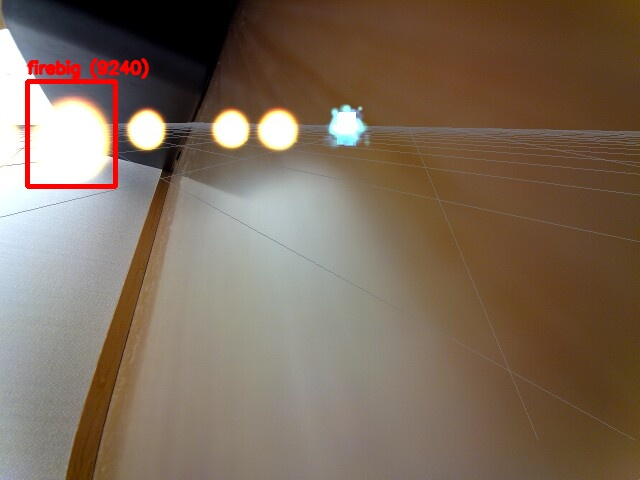firebig: (27, 81, 115, 186)
